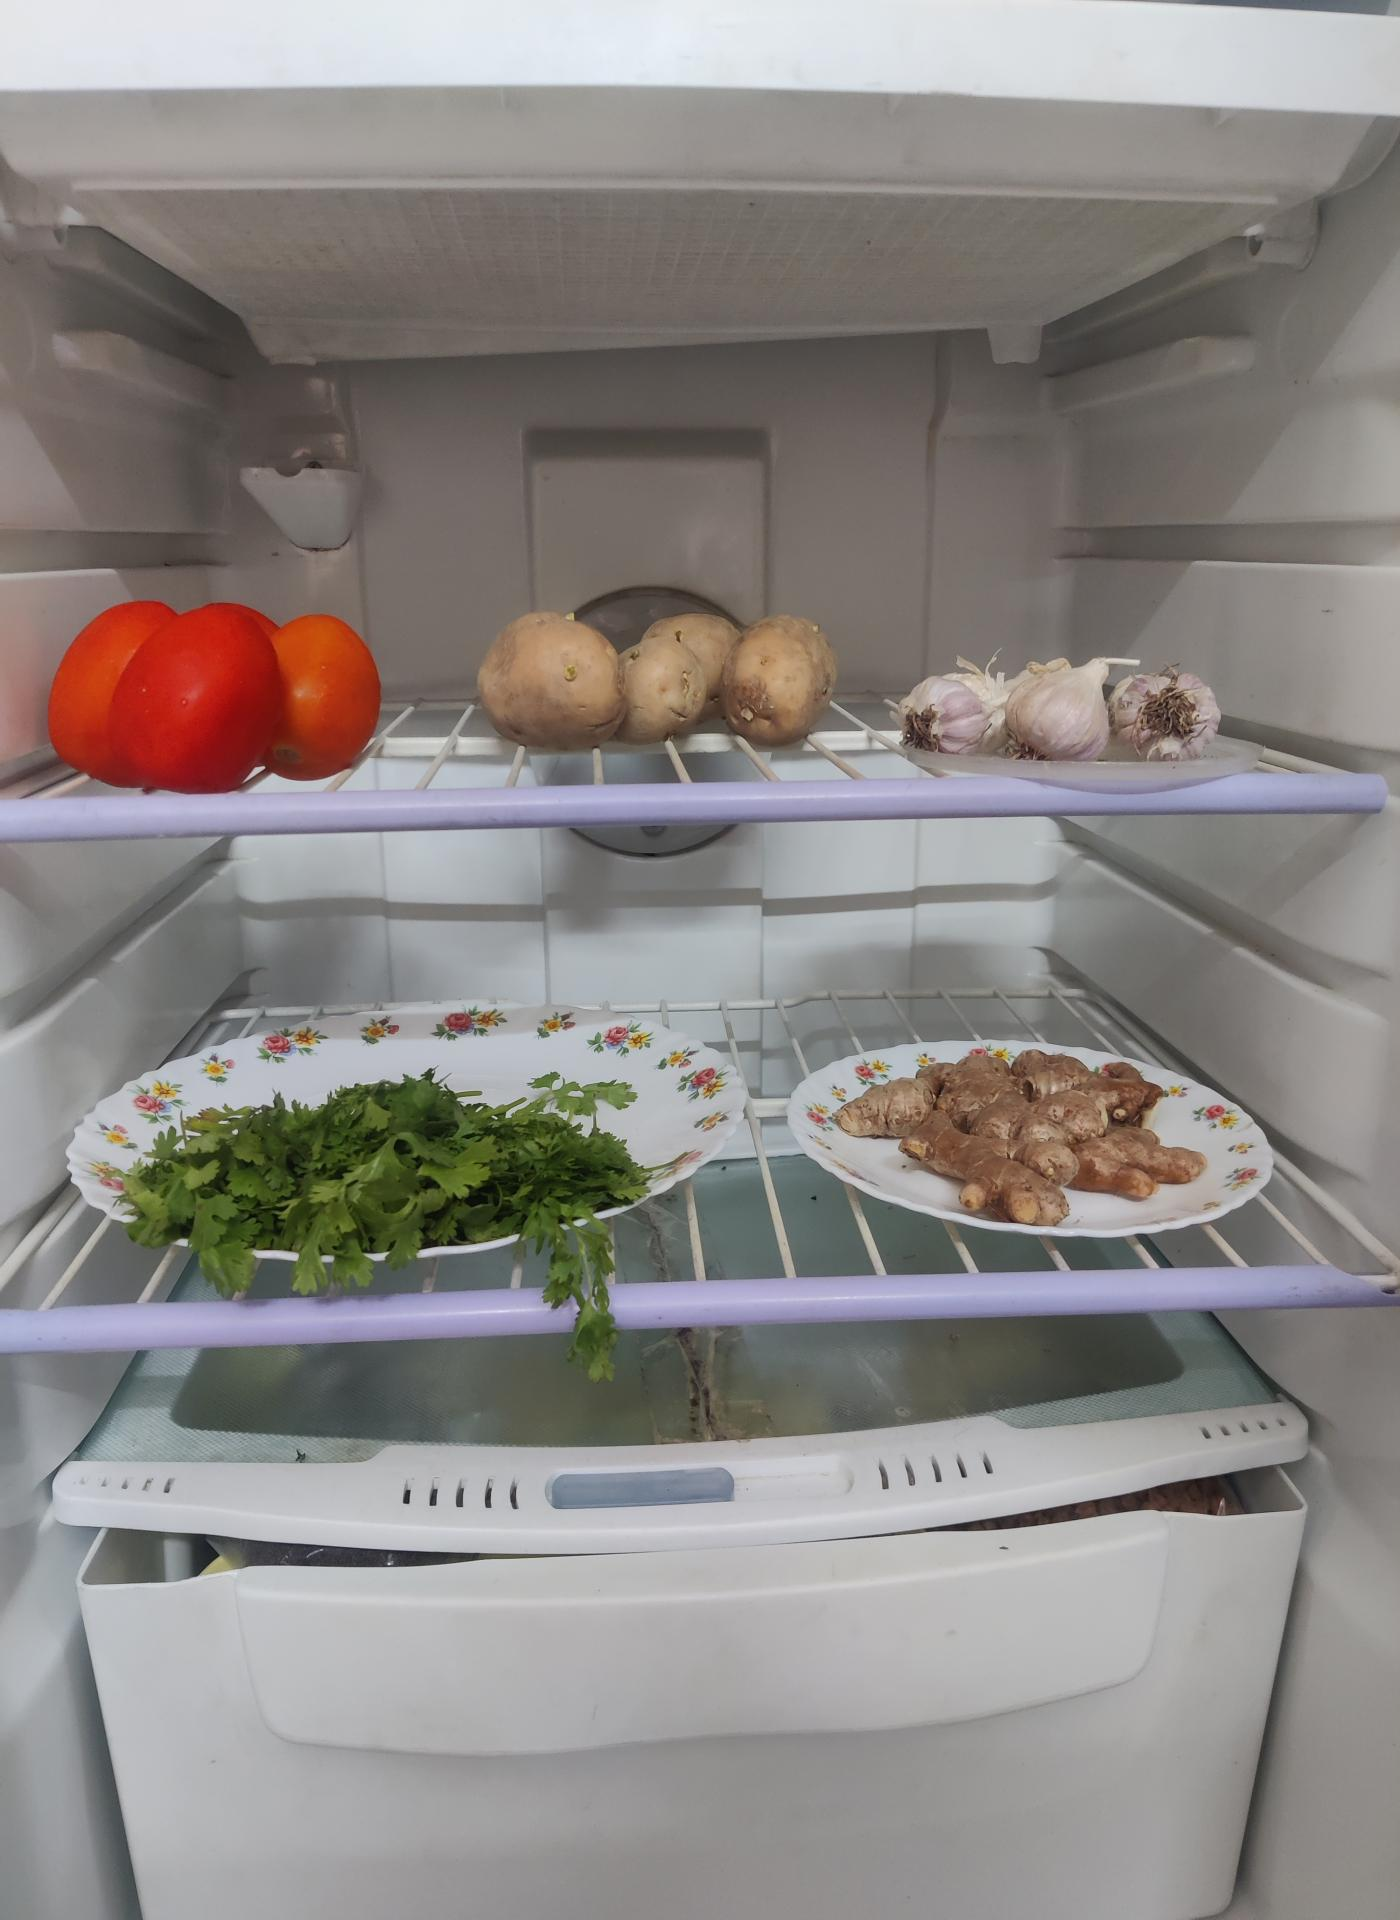coriander: (118, 1067, 653, 1272)
garlic: (904, 647, 1176, 754), (1111, 668, 1218, 753)
ginger: (816, 1046, 1185, 1236)
potato: (477, 602, 845, 750)
tomato: (43, 598, 380, 787)
